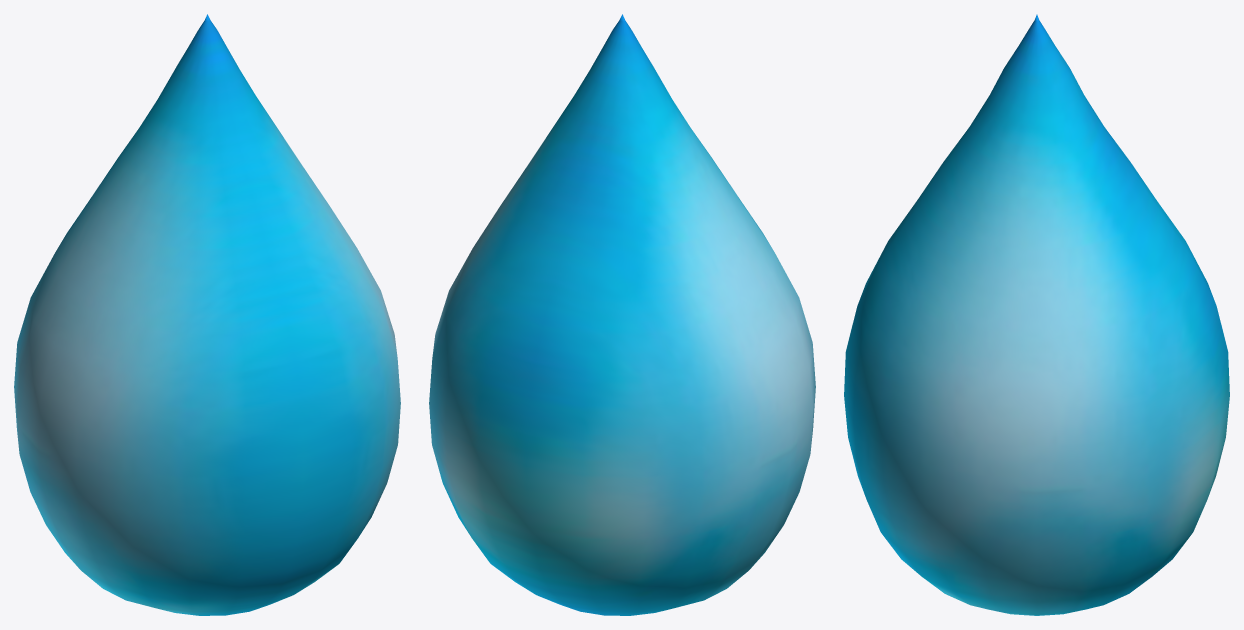
File: DropWater.fbx
3 views of the same model, side by side, from view 1: azimuth 30°, elevation 25°; view 2: azimuth 150°, elevation 25°; view 3: azimuth 270°, elevation 25° (orthographic).
Parts seen in each view (by area): view 1: DropWater3; view 2: DropWater3; view 3: DropWater3.
Boxes of the visible parts, <box> form: DropWater3: <box>14,14,400,615</box>; DropWater3: <box>429,14,815,615</box>; DropWater3: <box>844,14,1229,615</box>.
Size of the model in its own units: 2.81 by 4.65 by 2.78.
